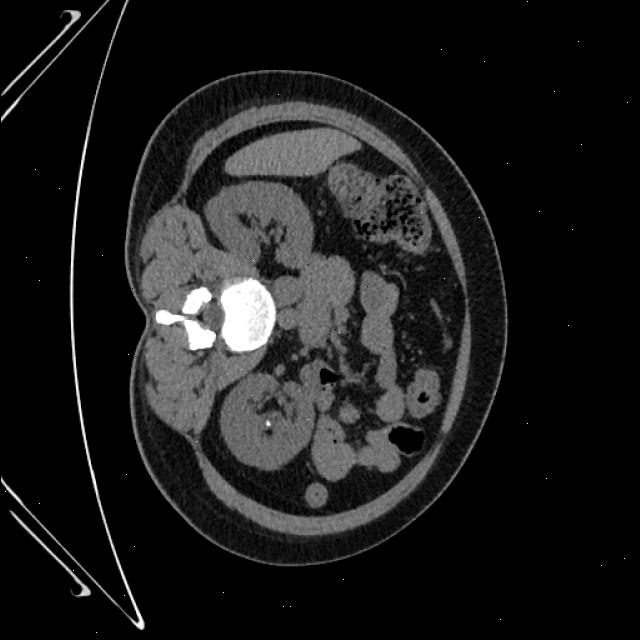kidneystone: (265, 419, 270, 428)
